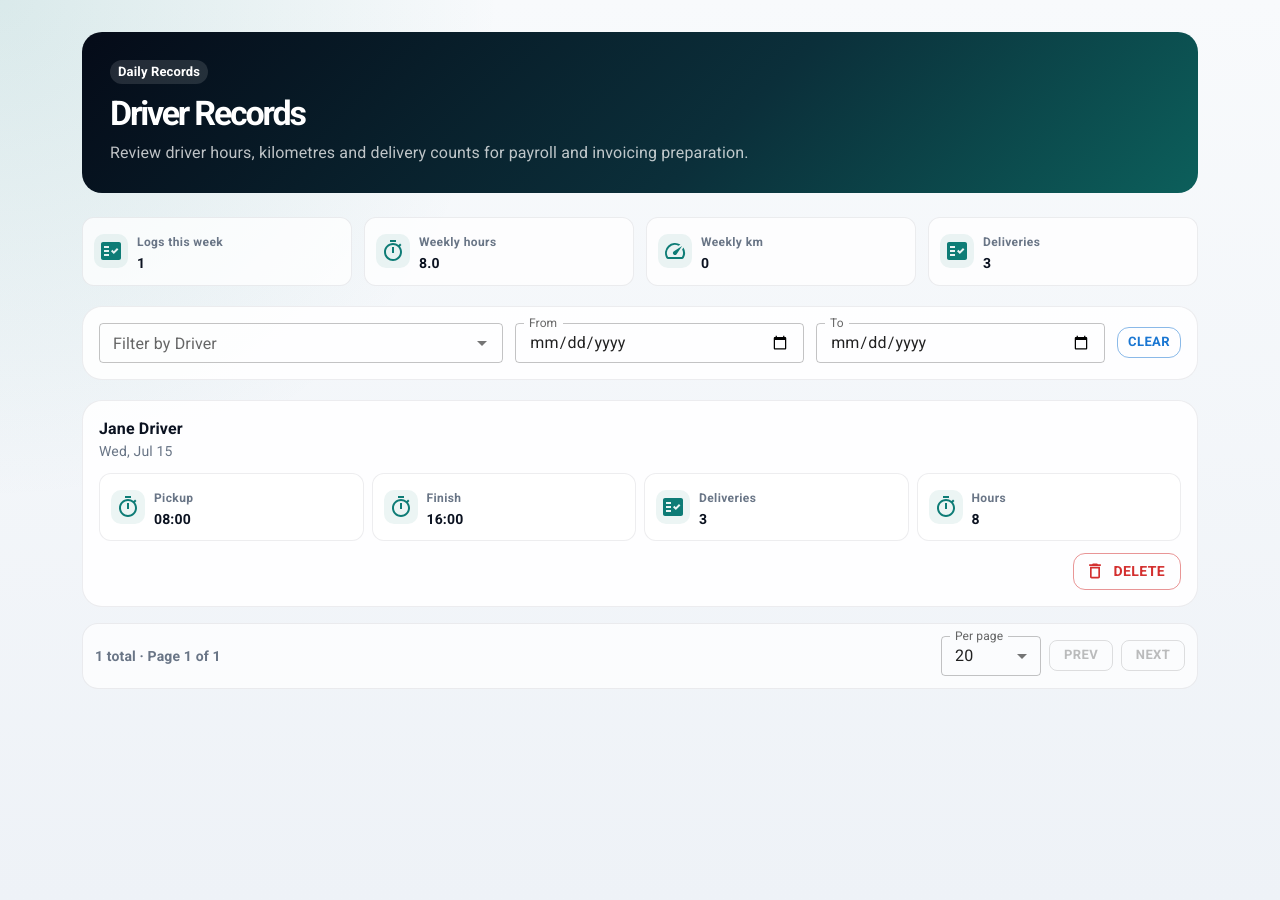
Test: WorkLogs (admin) — consolidated Driver + Date filter › PASS: a failed delete shows the server's error message instead of a silent failure
Expected: the text "Jane Driver" is shown, [99,419,183,438]
Click the button "Delete": (1127, 571) [1074,553,1181,590]
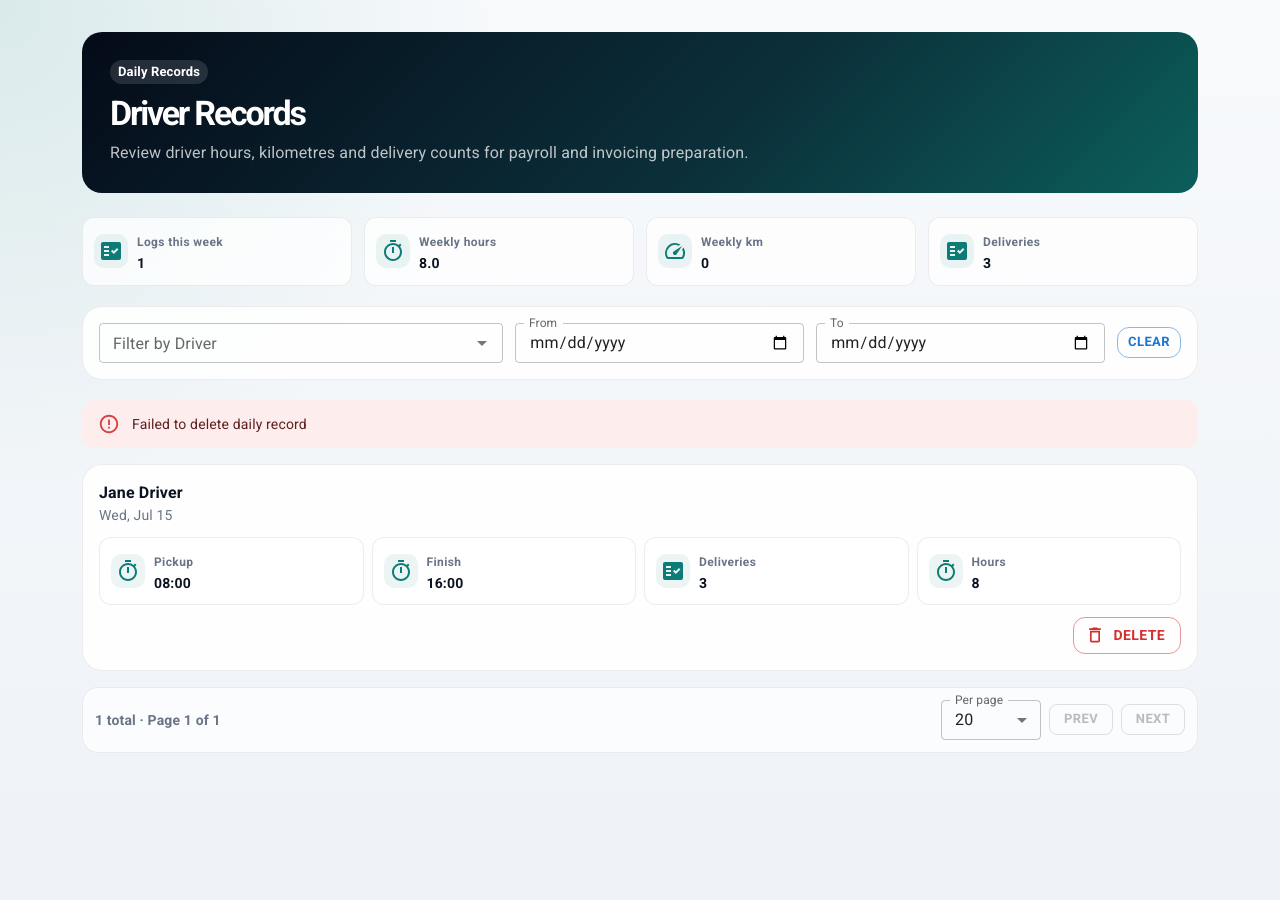
Now the text "Failed to delete daily record" is shown, box [132,416,307,432]
